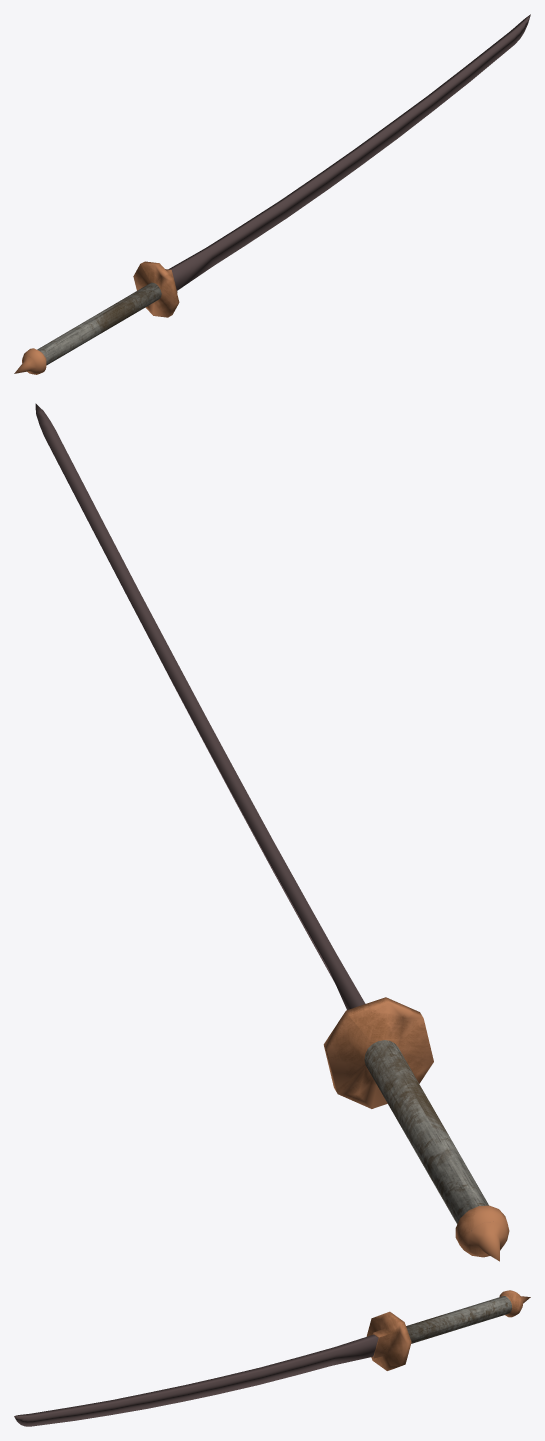
File: Anim_idle_katana_objetos.0039.obj
3 views of the same model, one above another, from view 1: azimuth 90°, elevation 25°; view 2: azimuth 150°, elevation 25°; view 3: azimuth 270°, elevation 25° (orthographic). The views are drawn at different scales.
Visible parts, largest first — view 1: Katana1; view 2: Katana1; view 3: Katana1.
Part boxes in pixels (x1,y1,x2,y2): Katana1: (14, 14, 530, 374); Katana1: (35, 403, 509, 1261); Katana1: (14, 1290, 530, 1426).
Size of the model in its own units: 3.9 by 0.9833 by 3.56.
